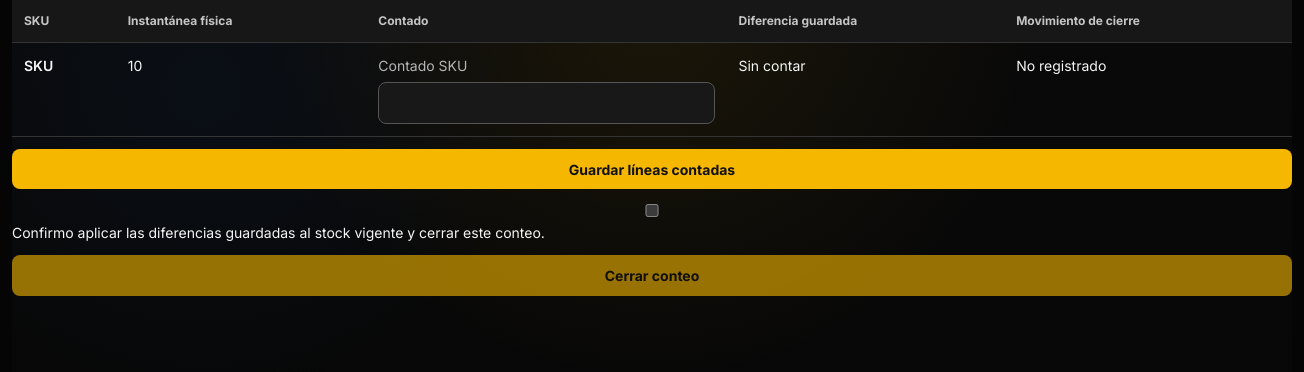
Scenario: inventory operation uncertainty and authorization boundaries › keeps a rejected write out of the successful state
The width and height of the screenshot is (1304, 372).
Type "12" into the number field labelled "Contado SKU" at (546, 103), box x1=378 y1=82 x2=714 y2=124
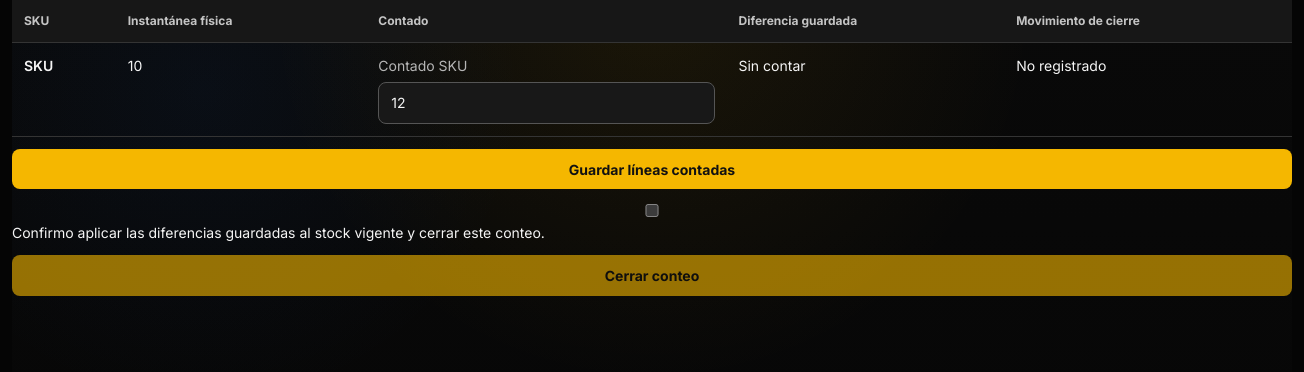
Click the button "Guardar líneas contadas" at (652, 169), box x1=12 y1=149 x2=1292 y2=189
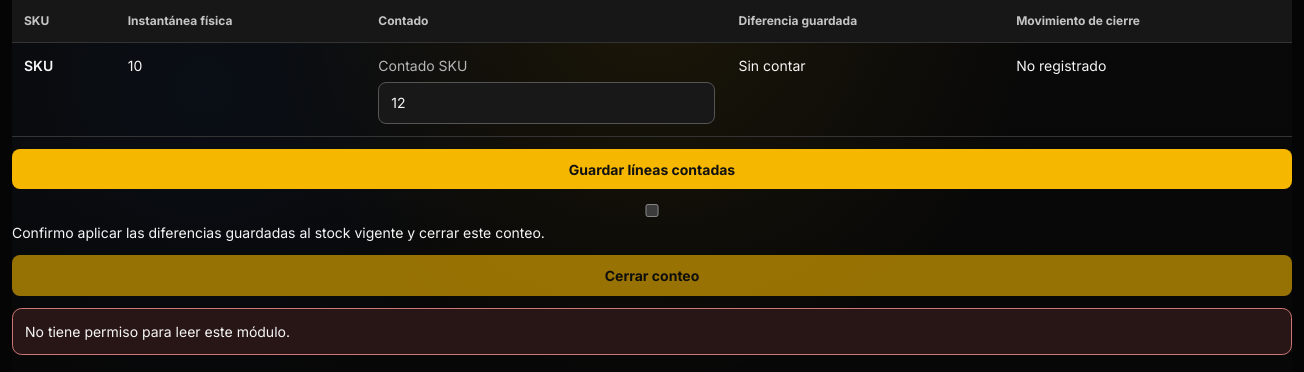
Result: the message "No tiene permiso para leer este módulo." is shown at x1=12 y1=308 x2=1292 y2=355
